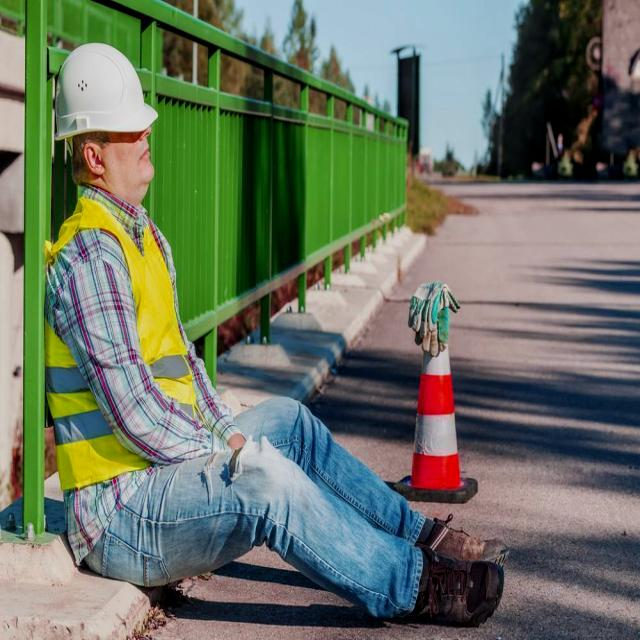face_nomask: (102, 119, 162, 199)
head_helmet: (52, 41, 158, 144)
person: (34, 49, 498, 621)
shoes: (398, 558, 504, 626), (411, 518, 507, 566)
vest: (46, 194, 198, 492)
